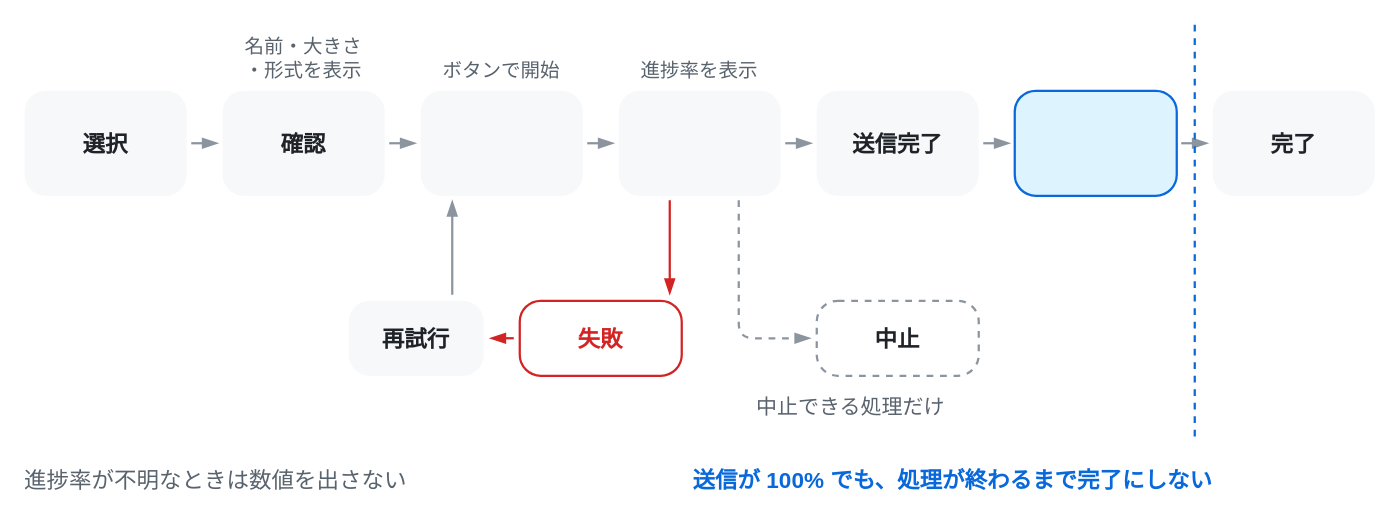
The diagram is 1400 pixels wide and 518 high, and some of its shapes have lost their labels. The shapes that lost their labels are listed below. From the top down, each one's centre as x and y in pixels, then its label:
At (501,142): "アップロード 開始".
At (699,142): "送信中".
At (1095,142): "データ 処理中".
